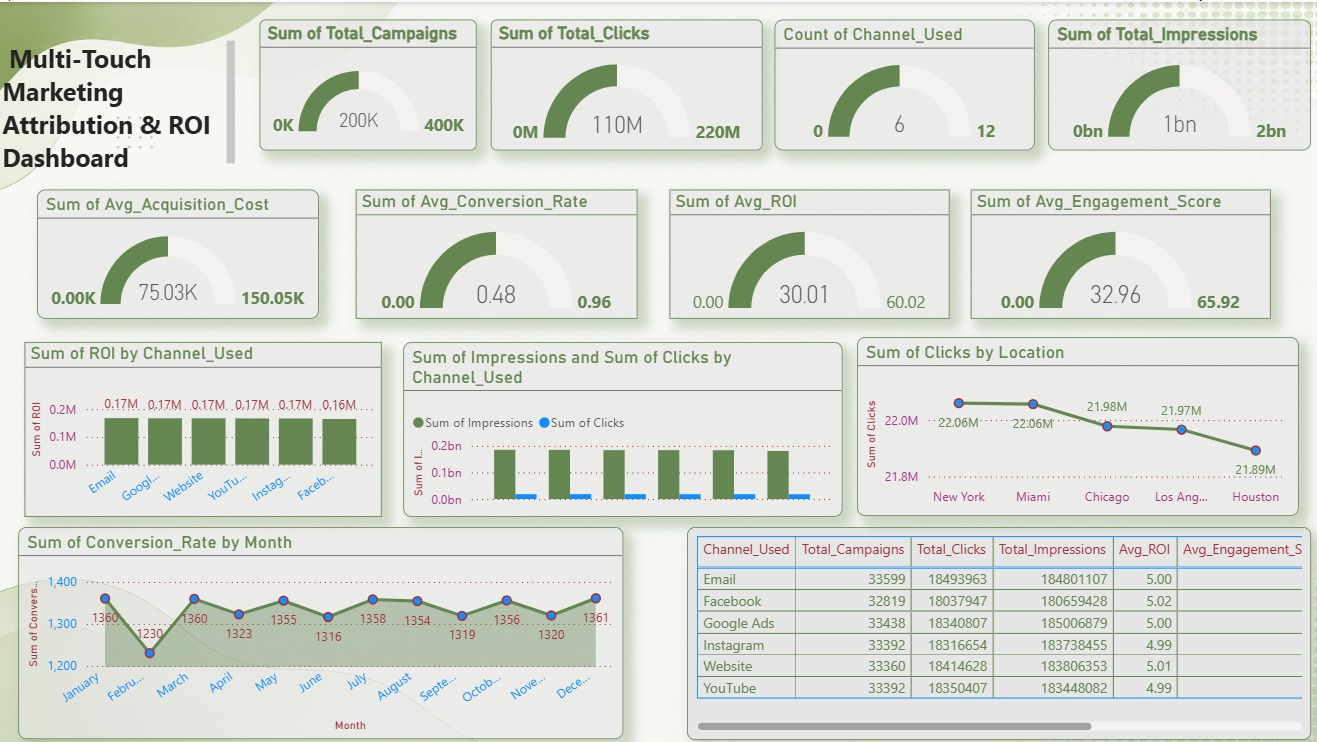

What the dashboard file says about the page in this screenshot:
{"tool":"powerbi","page":{"name":"Page 1","canvas":[1280,720],"ordinal":0},"visuals":[{"type":"gauge","fields":{"Y":["Sum(channel_summary.Total_Campaigns)"]},"box":[253.9,16.5,209.9,126.2],"z":0},{"type":"gauge","fields":{"Y":["Sum(channel_summary.Total_Clicks)"]},"box":[476.2,16.5,262.1,126.2],"z":1000},{"type":"gauge","fields":{"Y":["Count(channel_summary.Channel_Used)"]},"box":[750.6,16.5,251.1,126.2],"z":2000},{"type":"gauge","fields":{"Y":["Sum(channel_summary.Total_Impressions)"]},"box":[1014.1,16.5,253.9,126.2],"z":3000},{"type":"gauge","fields":{"Y":["Sum(channel_summary.Avg_Acquisition_Cost)"]},"box":[38.4,181.1,271.7,124.9],"z":4000},{"type":"gauge","fields":{"Y":["Sum(channel_summary.Avg_Conversion_Rate)"]},"box":[345.8,181.1,271.7,124.9],"z":5000},{"type":"gauge","fields":{"Y":["Sum(channel_summary.Avg_ROI)"]},"box":[649.1,181.1,270.3,124.9],"z":6000},{"type":"gauge","fields":{"Y":["Sum(channel_summary.Avg_Engagement_Score)"]},"box":[940,181.1,289.5,124.9],"z":7000},{"type":"clusteredColumnChart","fields":{"Y":["Sum(marketing_campaign_dataset.ROI)"],"Category":["marketing_campaign_dataset.Channel_Used"]},"box":[26.1,328,344.4,168.8],"z":8000},{"type":"clusteredColumnChart","fields":{"Y":["Sum(marketing_campaign_dataset.Impressions)","Sum(marketing_campaign_dataset.Clicks)"],"Category":["marketing_campaign_dataset.Channel_Used"]},"box":[392.5,328,424,168.8],"z":9000},{"type":"tableEx","fields":{"Values":["channel_performance_summary.Channel_Used","channel_performance_summary.Total_Campaigns","channel_performance_summary.Total_Clicks","channel_performance_summary.Total_Impressions","channel_performance_summary.Avg_ROI","channel_performance_summary.Avg_Engagement_Score","channel_performance_summary.Avg_Conversion_Rate","channel_performance_summary.Avg_Acquisition_Cost"]},"box":[666,506.7,602.4,205.8],"z":10000},{"type":"lineChart","fields":{"Category":["marketing_campaign_dataset.Location"],"Y":["Sum(marketing_campaign_dataset.Clicks)"]},"box":[830.2,323.8,426.8,172.9],"z":10001},{"type":"areaChart","fields":{"Category":["marketing_campaign_dataset.Date.Variation.Date Hierarchy.Month"],"Y":["Sum(marketing_campaign_dataset.Conversion_Rate)"]},"box":[20.5,506.7,583.9,205.1],"z":10002},{"type":"textbox","box":[0,32.9,234.6,133.1],"z":10003}]}

Visuals, with their boxes in screenshot pixels (x1, y1, x2, y2), scaled from the page's 1280x720 canvas onto the 1317x742 screenshot:
gauge - Sum(channel_summary.Total_Campaigns): 261/17/477/147
gauge - Sum(channel_summary.Total_Clicks): 490/17/760/147
gauge - Count(channel_summary.Channel_Used): 772/17/1031/147
gauge - Sum(channel_summary.Total_Impressions): 1043/17/1305/147
gauge - Sum(channel_summary.Avg_Acquisition_Cost): 40/187/319/315
gauge - Sum(channel_summary.Avg_Conversion_Rate): 356/187/635/315
gauge - Sum(channel_summary.Avg_ROI): 668/187/946/315
gauge - Sum(channel_summary.Avg_Engagement_Score): 967/187/1265/315
clusteredColumnChart - Sum(marketing_campaign_dataset.ROI) x marketing_campaign_dataset.Channel_Used: 27/338/381/512
clusteredColumnChart - Sum(marketing_campaign_dataset.Impressions) x Sum(marketing_campaign_dataset.Clicks): 404/338/840/512
tableEx - channel_performance_summary.Channel_Used x channel_performance_summary.Total_Campaigns: 685/522/1305/734
lineChart - marketing_campaign_dataset.Location x Sum(marketing_campaign_dataset.Clicks): 854/334/1293/512
areaChart - marketing_campaign_dataset.Date.Variation.Date Hierarchy.Month x Sum(marketing_campaign_dataset.Conversion_Rate): 21/522/622/734
textbox: 0/34/241/171
